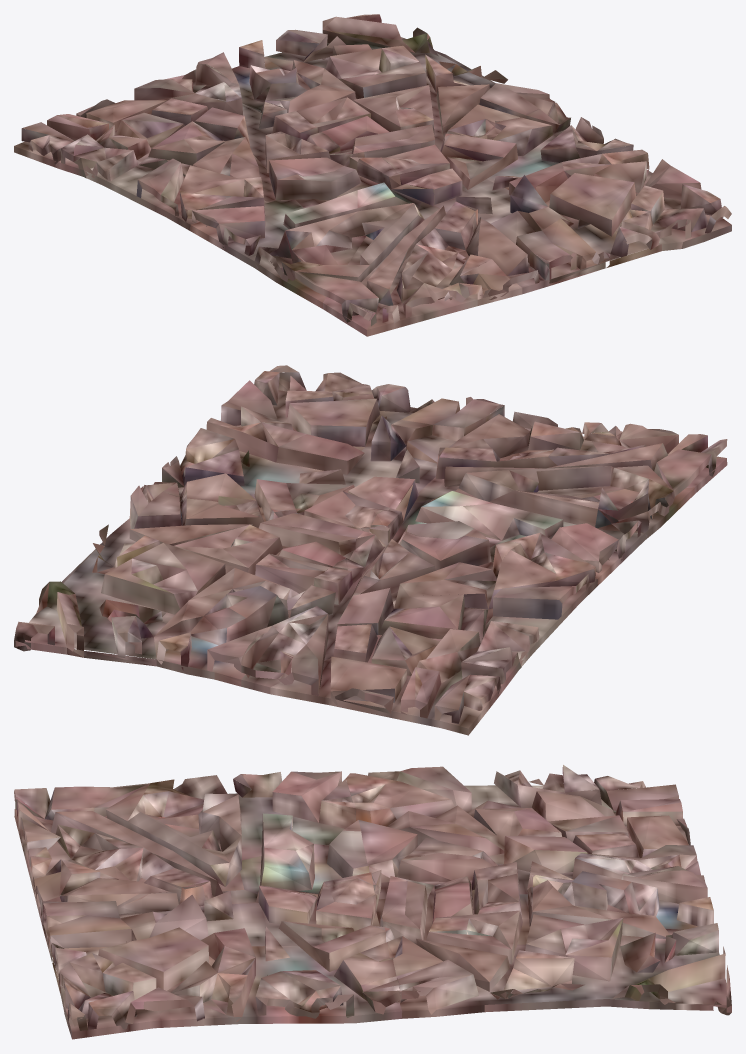
The picture shows the model from 3 angles, top to bottom: view 1: azimuth 30°, elevation 25°; view 2: azimuth 150°, elevation 25°; view 3: azimuth 270°, elevation 25°; orthographic projection. The views are drawn at different scales.
Parts seen in each view (by area): view 1: Mesh_0; view 2: Mesh_0; view 3: Mesh_0.
Boxes of the visible parts, x1,y1,x2,y2 form: Mesh_0: (14, 14, 731, 336); Mesh_0: (14, 365, 727, 735); Mesh_0: (14, 765, 731, 1039).
Bounding box in the file's own units: 532 × 71.92 × 659.
2 materials, 2 textured.
